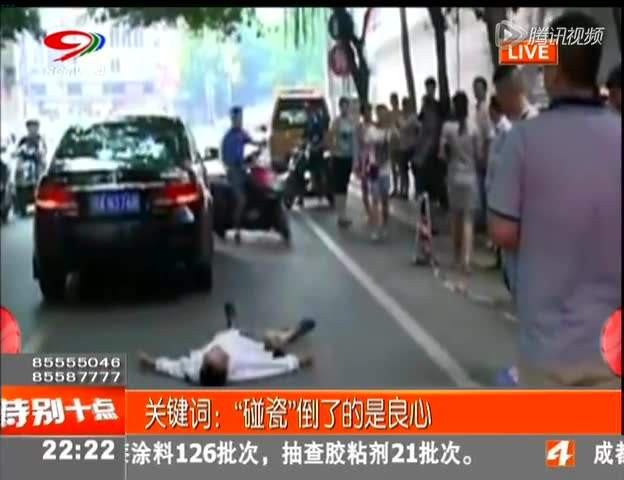10+: (14, 15, 622, 387)
down: (127, 279, 323, 385)
